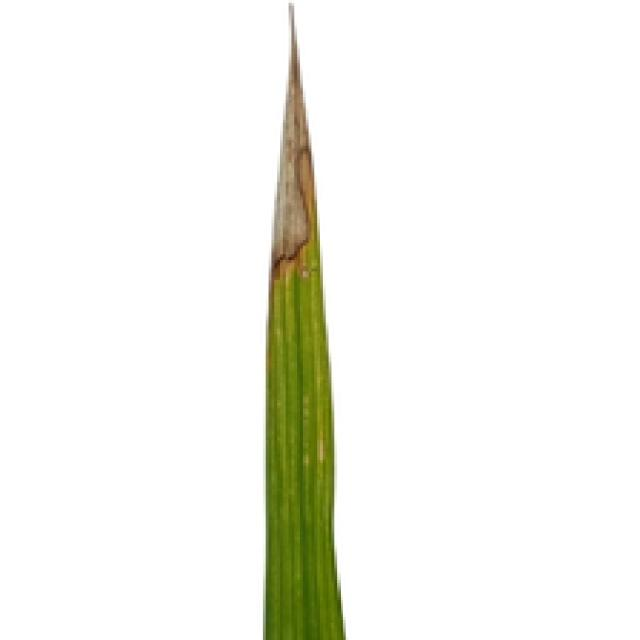Rice___Bacterial_Leaf_Blight: (262, 0, 347, 637)
